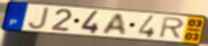2: (50, 8, 74, 33)
4: (80, 9, 101, 35), (137, 14, 156, 39)
A: (101, 13, 128, 36)
J: (27, 6, 51, 30)
R: (157, 16, 187, 40)
